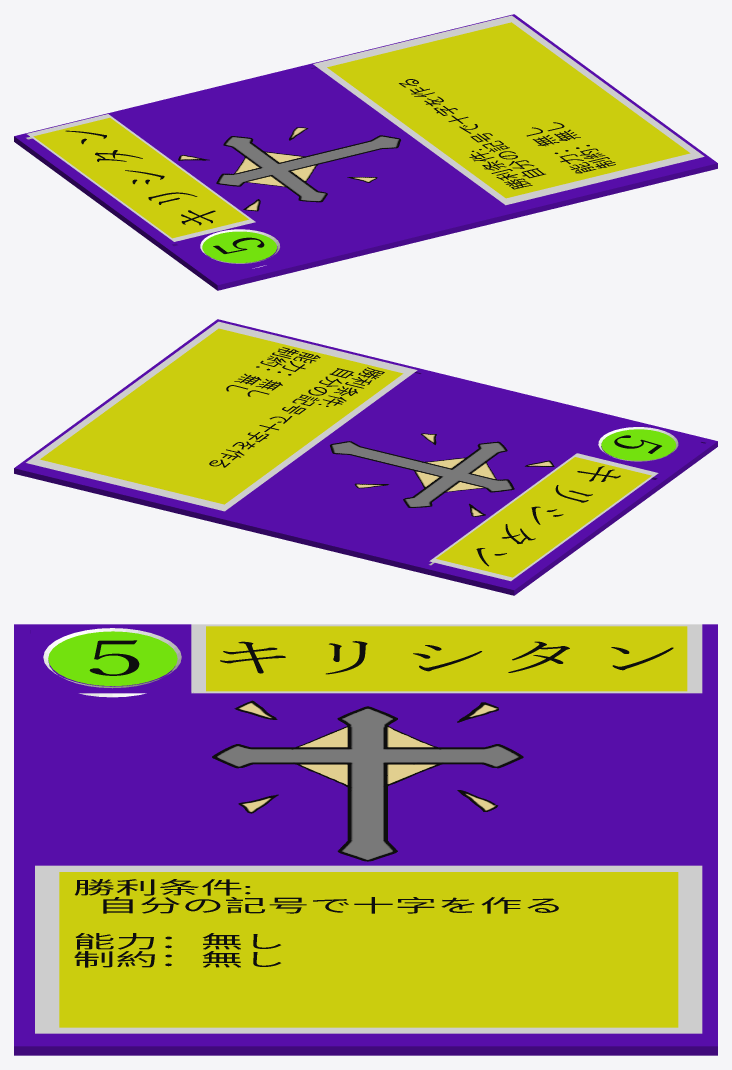
File: キリシタン紫.fbx
3 views of the same model, one above another, from view 1: azimuth 30°, elevation 25°; view 2: azimuth 150°, elevation 25°; view 3: azimuth 270°, elevation 25° (orthographic). The views are drawn at different scales.
Visible parts, largest first — view 1: カード本体.001, 説明欄, 名前欄, 平面.001, 説明文, 円, 平面, 名前; view 2: カード本体.001, 説明欄, 名前欄, 平面.001, 説明文, 円, 平面, 名前; view 3: カード本体.001, 説明欄, 名前欄, 平面.001, 説明文, 平面, 円, 名前, コスト蘭.
Part boxes in pixels (x1=…): カード本体.001: x1=14, y1=14, x2=717, y2=290; 説明欄: x1=313, y1=15, x2=704, y2=205; 名前欄: x1=27, y1=114, x2=255, y2=241; 平面.001: x1=178, y1=127, x2=400, y2=211; 説明文: x1=399, y1=79, x2=615, y2=189; 円: x1=202, y1=231, x2=276, y2=262; 平面: x1=174, y1=222, x2=302, y2=275; 名前: x1=65, y1=130, x2=215, y2=225; カード本体.001: x1=14, y1=319, x2=717, y2=595; 説明欄: x1=26, y1=321, x2=417, y2=511; 名前欄: x1=429, y1=453, x2=658, y2=581; 平面.001: x1=330, y1=433, x2=554, y2=516; 説明文: x1=209, y1=347, x2=384, y2=467; 円: x1=601, y1=429, x2=675, y2=460; 平面: x1=577, y1=419, x2=704, y2=472; 名前: x1=476, y1=466, x2=620, y2=566; カード本体.001: x1=14, y1=624, x2=717, y2=1055; 説明欄: x1=35, y1=865, x2=702, y2=1033; 名前欄: x1=191, y1=624, x2=702, y2=693; 平面.001: x1=212, y1=700, x2=523, y2=861; 説明文: x1=74, y1=879, x2=558, y2=967; 平面: x1=30, y1=624, x2=191, y2=693; 円: x1=48, y1=631, x2=177, y2=686; 名前: x1=220, y1=641, x2=673, y2=674; コスト蘭: x1=43, y1=628, x2=181, y2=697.
Bounding box in the file's own units: 281 × 6.07 × 198.
